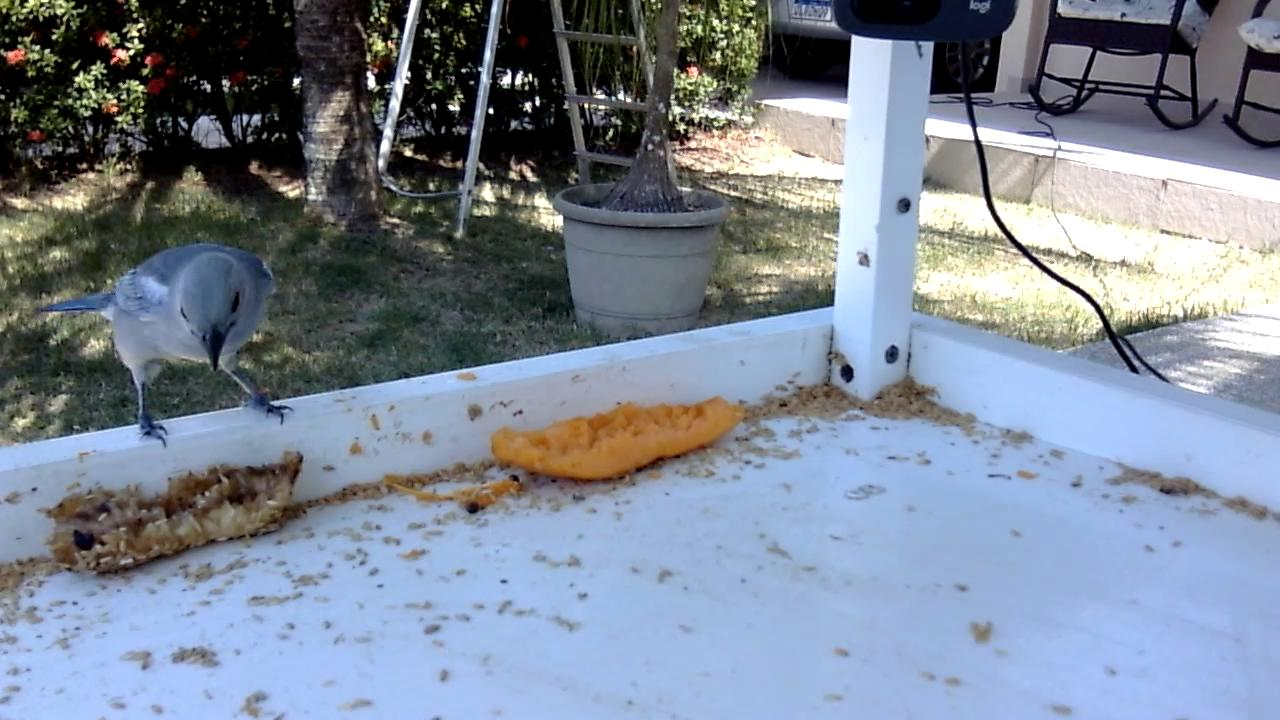sanhaco_da_amazonia: (39, 242, 297, 454)
